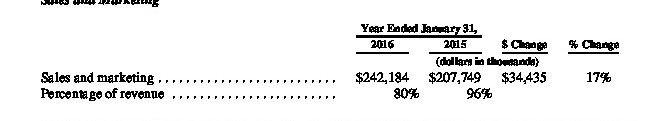table: (0, 0, 659, 121)
